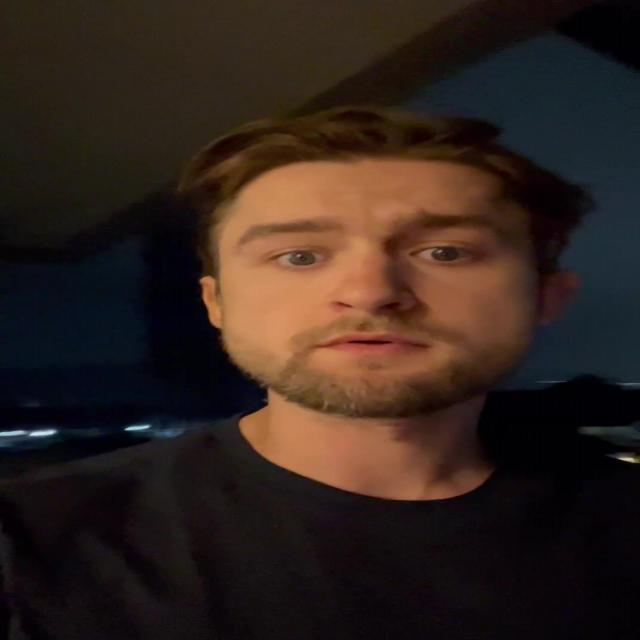earlobe: (535, 304, 562, 327), (207, 306, 224, 329)
eye: (411, 244, 478, 264), (269, 250, 331, 269)
nose: (331, 302, 414, 332)
wholeear: (535, 269, 580, 327), (198, 276, 225, 330)
